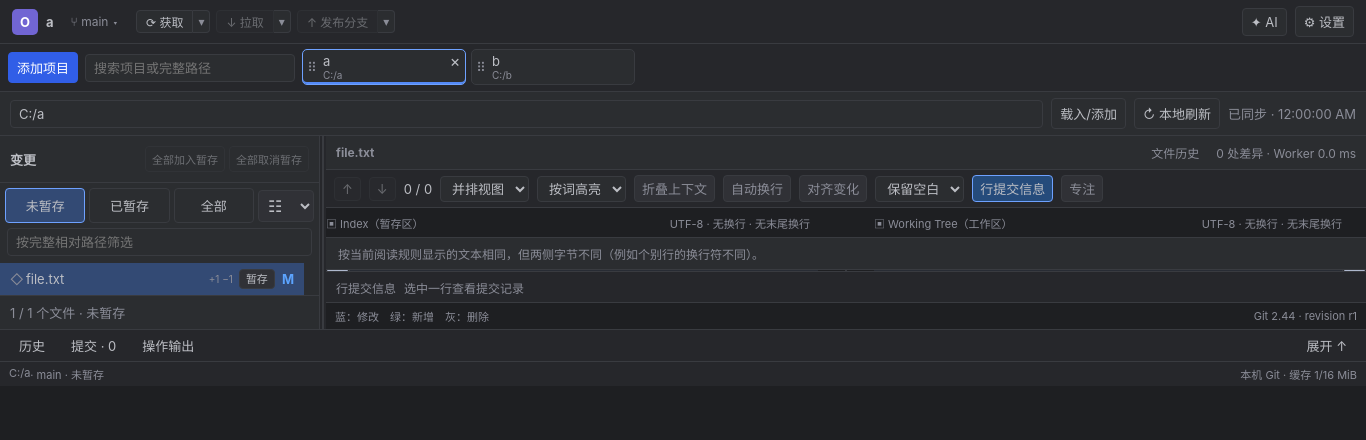
Test: controlled focus state integration (no native windows) › restarts saved v2 non-first staged tab under StrictMode: empty
The width and height of the screenshot is (1366, 440).
Click the button "b C:/b" at (552, 67), box [490,50,614,84]
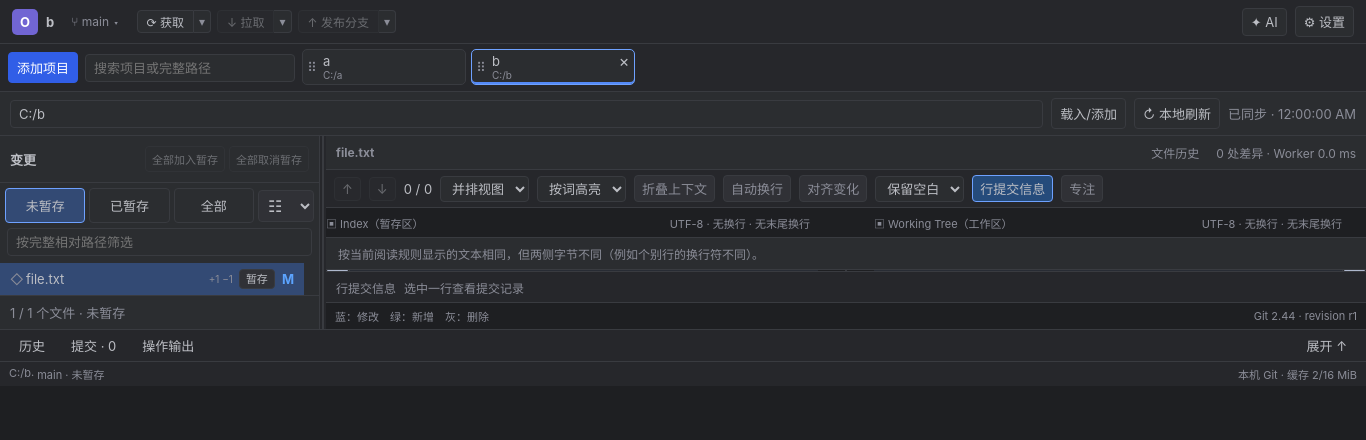
Click the button "已暂存" at (129, 206), box [89,188,170,223]
Wait 61000 ms
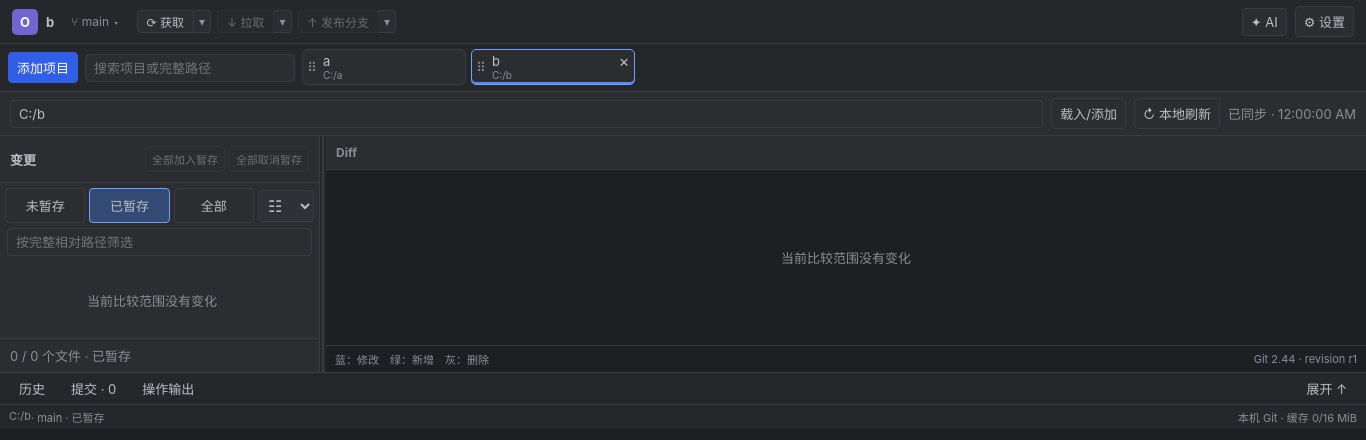
Expected: the text "当前比较范围没有变化" is shown, [87,293,217,309]
